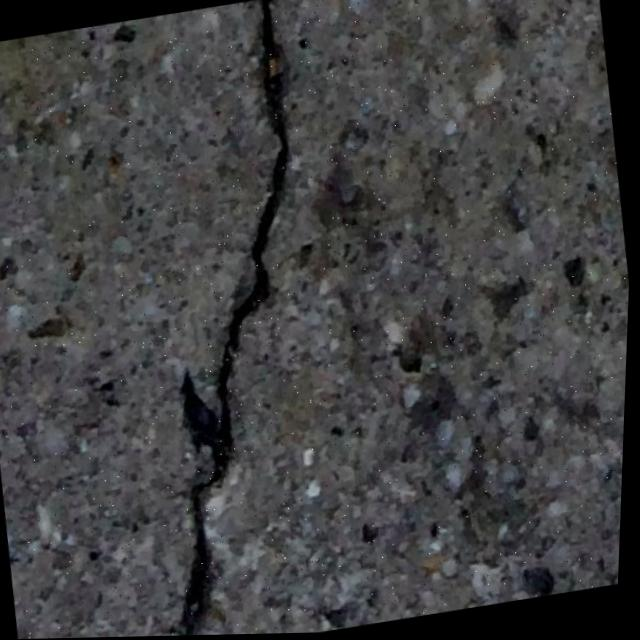Crack: (100, 0, 376, 638)
